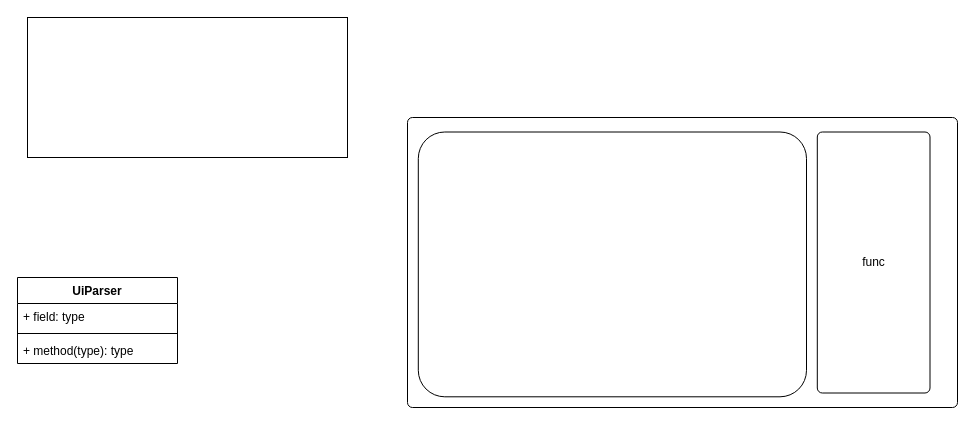
Image size: 975x425. Some labels were removed from this diagram. The centre of each missing label's shape, as x and y in pixels:
"ContainerService + getRoomContainer():Container + method2(Type, Type): Type" belongs at pixel 187 87.
"ppt" belongs at pixel 611 264.
